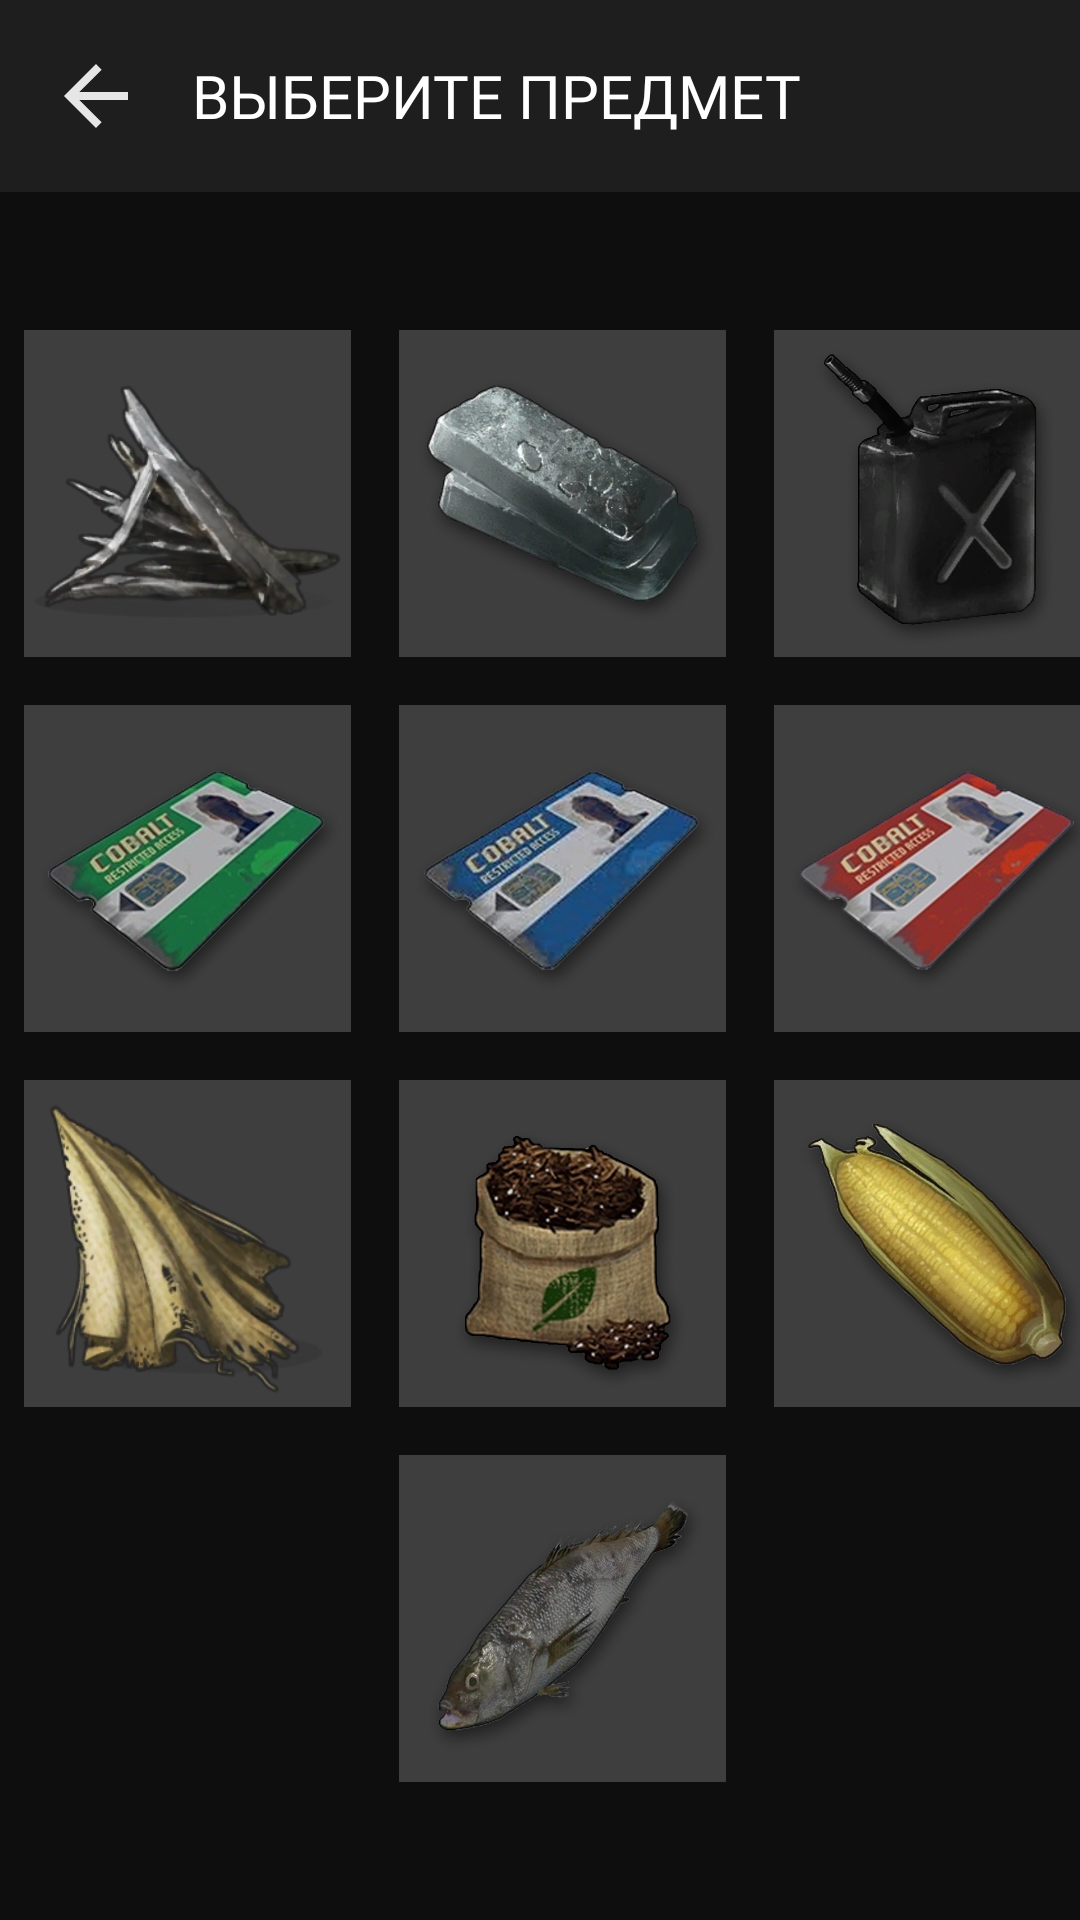

Icons on this 1080*1920 Android screen, each with the point to tap as point (x, y):
arrow back: point (96, 96)
corn: point (927, 1243)
fertilazer: point (562, 1243)
fish: point (562, 1618)
keycardb: point (562, 868)
keycardg: point (187, 868)
keycardr: point (927, 868)
metalr: point (187, 493)
oil: point (927, 493)
tkan: point (187, 1243)
